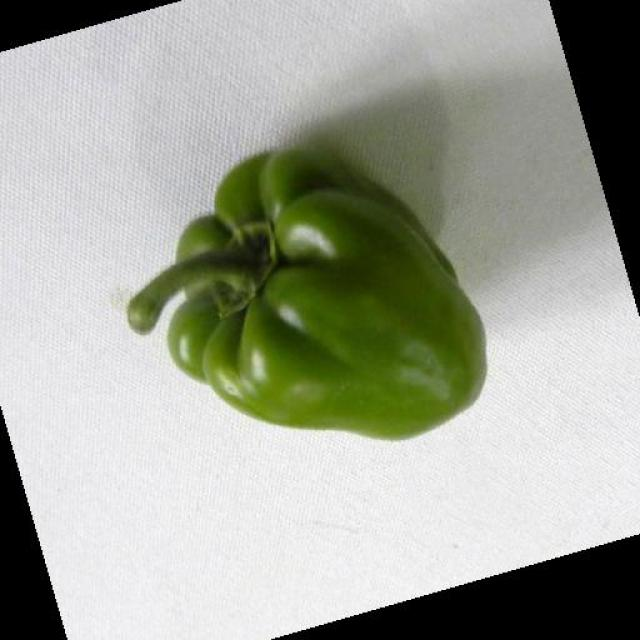Fresh_Capsicum: (155, 160, 486, 470)
